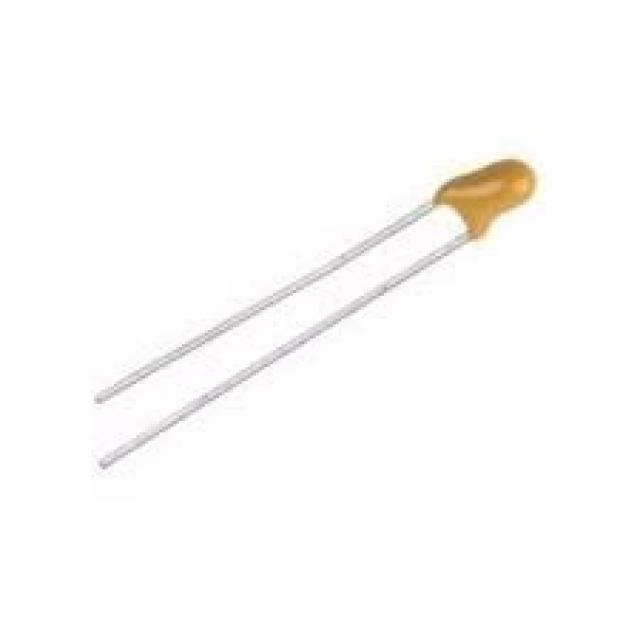Capacitor: (430, 159, 538, 239)
